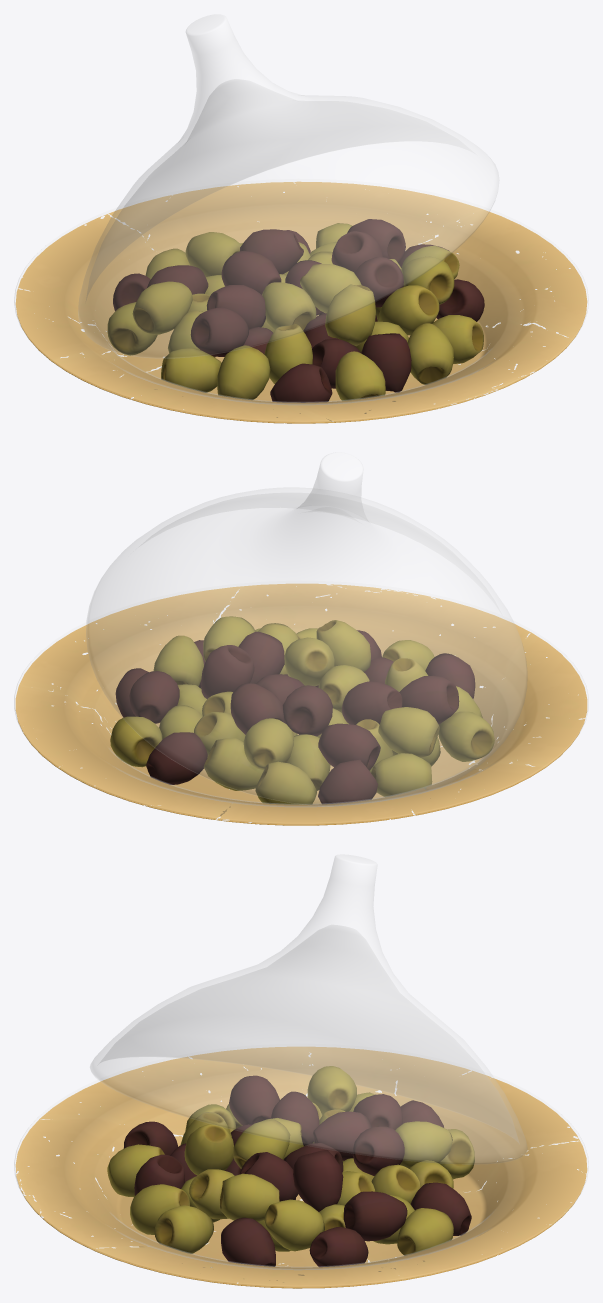
File: IridescentDishWithOlives_compressed.glb
3 views of the same model, one above another, from view 1: azimuth 30°, elevation 25°; view 2: azimuth 150°, elevation 25°; view 3: azimuth 270°, elevation 25° (orthographic).
Parts seen in each view (by area): view 1: glassCover, goldLeaf, glassDish, olives; view 2: glassCover, glassDish, goldLeaf, olives; view 3: glassCover, goldLeaf, olives, glassDish.
Boxes of the visible parts, <box> form: glassCover: <box>78,14,499,358</box>; goldLeaf: <box>15,181,587,423</box>; glassDish: <box>14,179,588,422</box>; olives: <box>107,219,484,402</box>; glassCover: <box>86,452,527,805</box>; glassDish: <box>14,581,588,824</box>; goldLeaf: <box>15,583,587,825</box>; olives: <box>110,616,494,804</box>; glassCover: <box>90,854,527,1164</box>; goldLeaf: <box>15,1047,587,1288</box>; olives: <box>107,1066,474,1267</box>; glassDish: <box>14,1057,588,1287</box>.
Size of the model in its own units: 0.4593 by 0.2855 by 0.4593.
Materials: 4 (2 with a texture image).
